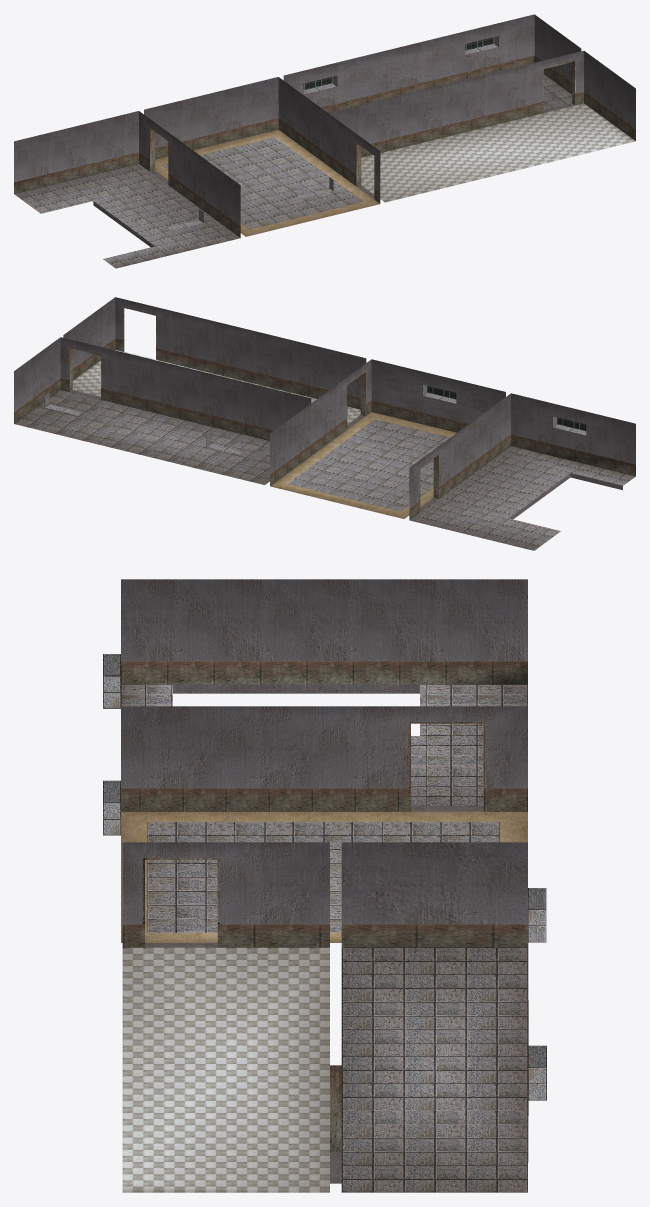
Rendered from M10_Offices_Int_04.glb.
3 views of the same model, one above another, from view 1: azimuth 30°, elevation 25°; view 2: azimuth 150°, elevation 25°; view 3: azimuth 270°, elevation 25° (orthographic). The views are drawn at different scales.
Visible parts, largest first — view 1: M10_OFFICES_INT_04; view 2: M10_OFFICES_INT_04; view 3: M10_OFFICES_INT_04.
Boxes of the visible parts, x1=… form: M10_OFFICES_INT_04: x1=14, y1=14, x2=635, y2=268; M10_OFFICES_INT_04: x1=14, y1=297, x2=635, y2=550; M10_OFFICES_INT_04: x1=103, y1=579, x2=546, y2=1192.
Size of the model in its own units: 30.99 by 3.25 by 11.45.
7 materials, 7 textured.
